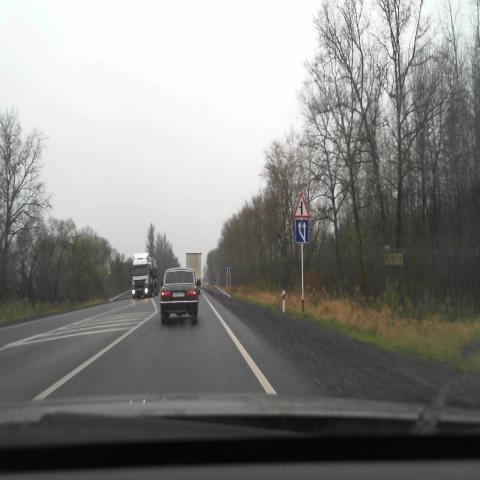2_3_3: (293, 191, 310, 219)
5_15_3: (295, 219, 309, 243)
